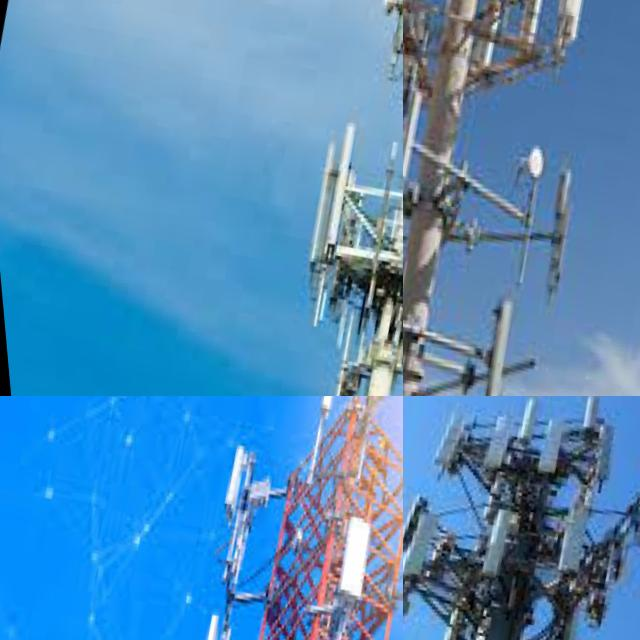GSM Antenna: (283, 125, 350, 275), (303, 119, 369, 256), (452, 297, 520, 396), (316, 515, 380, 617), (464, 492, 520, 586), (464, 404, 523, 492), (535, 516, 587, 599), (209, 445, 254, 530), (423, 411, 473, 482), (526, 417, 568, 485), (384, 148, 403, 297), (403, 87, 426, 199), (528, 0, 596, 37), (301, 396, 350, 429), (403, 492, 429, 553), (571, 396, 602, 441)
Microwave Antenna: (518, 168, 592, 312), (505, 144, 561, 207), (612, 480, 640, 575), (365, 0, 400, 33)
